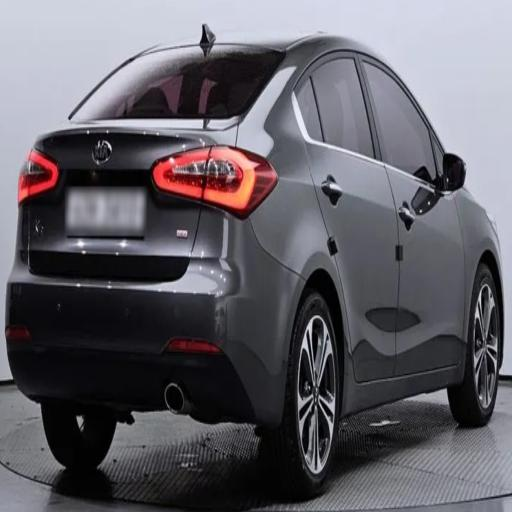normal: (7, 10, 512, 494)
